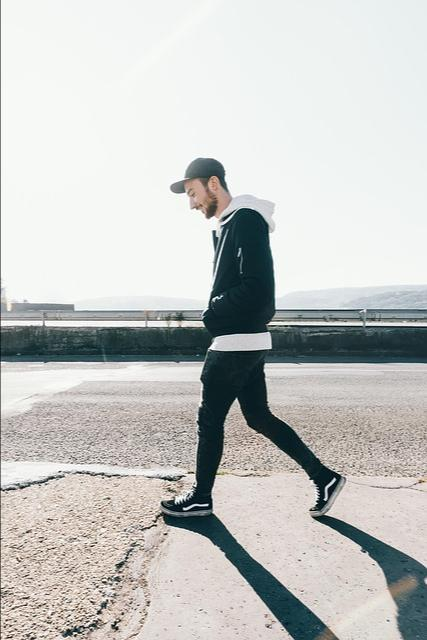Non_Gorille: (125, 94, 363, 570)
